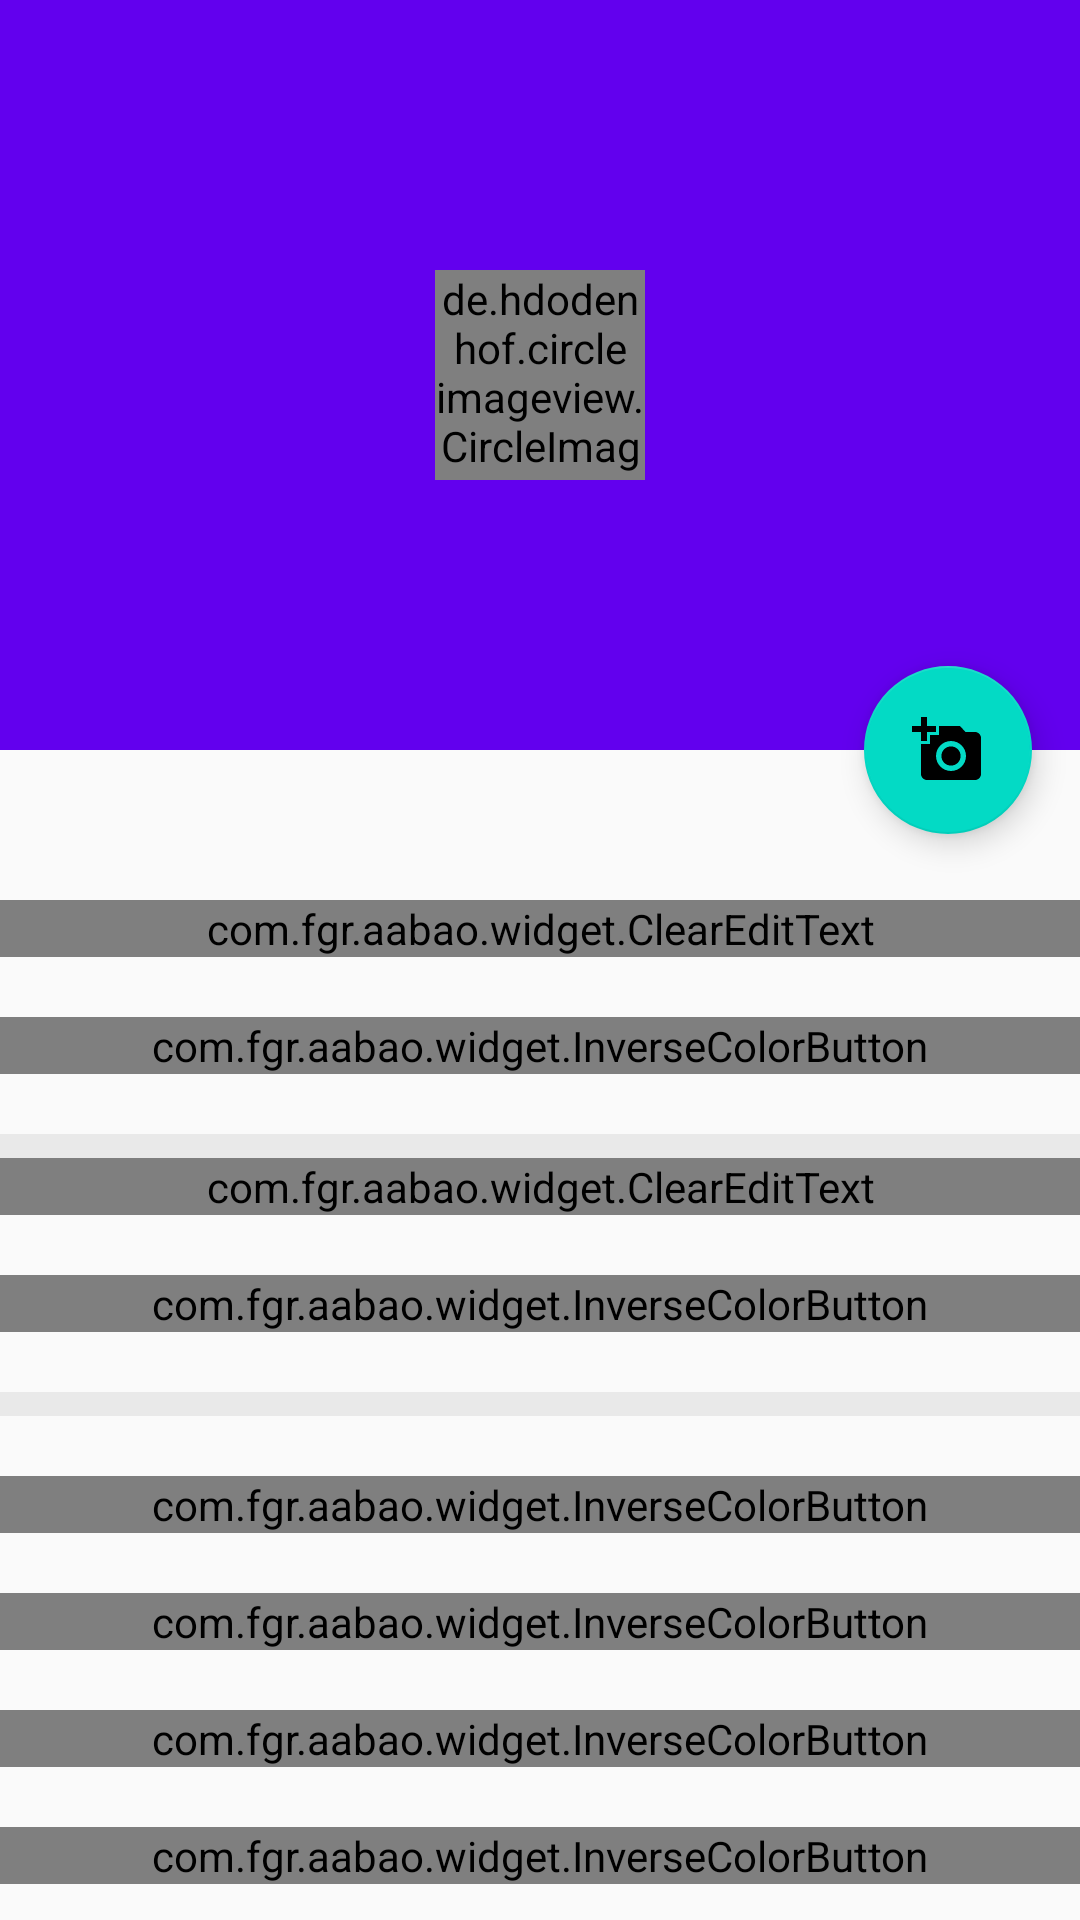

Icon click points for this 1080 x 1920 phone screenshot, format (x,y):
add photo: (948,750)
